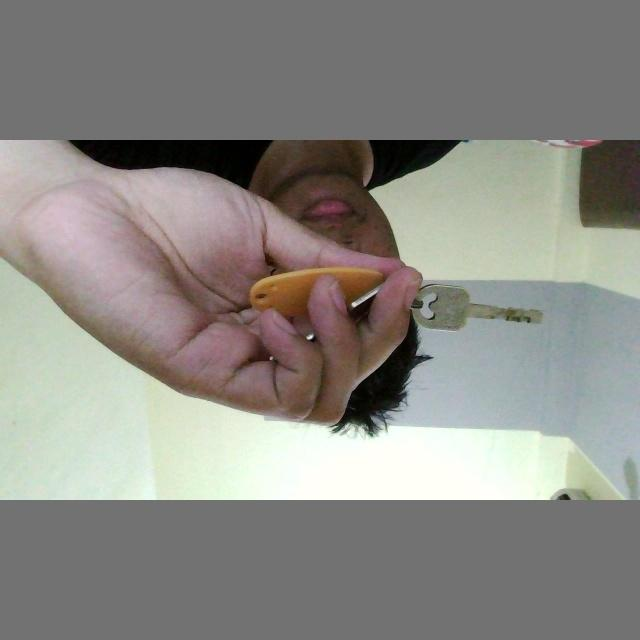Keys: (409, 278, 549, 340)
